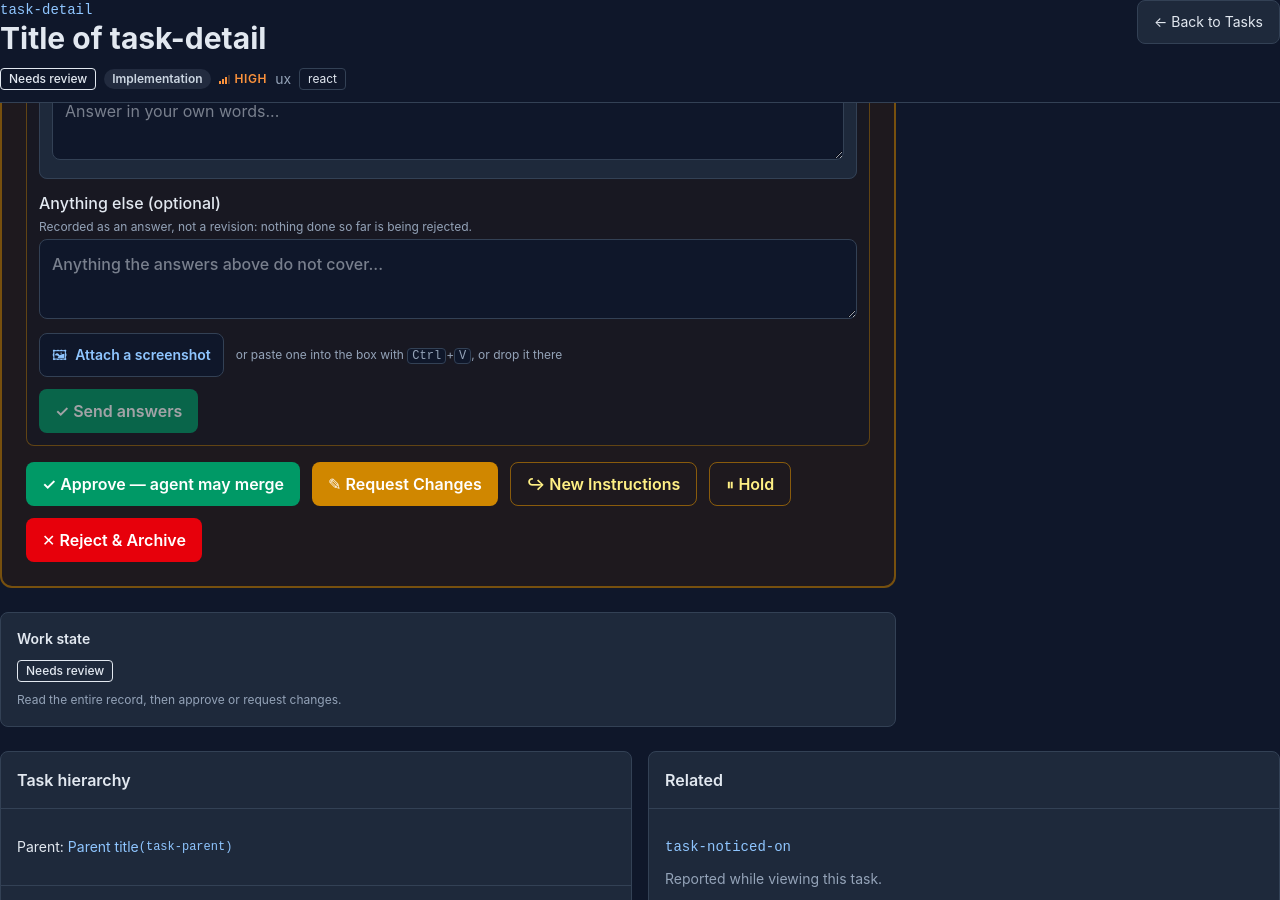
Test: TaskDetail review panel offers only verbs that are true › closes the composer once a hold lands, since the panel does not go away
(page scrolled)
Click the button "⏸ Hold" at (750, 484), box [709,462,791,506]
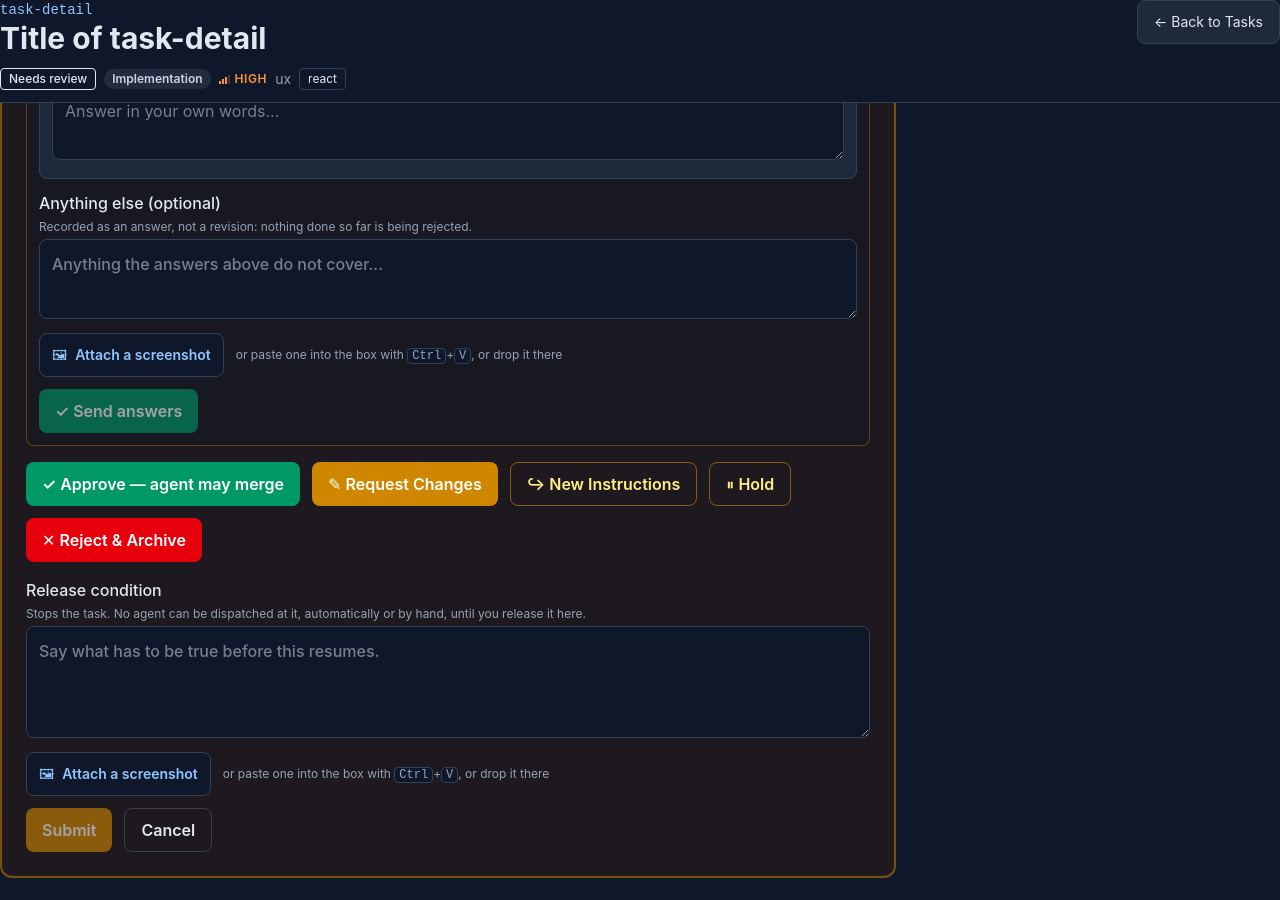
Type "Wait for the invoice." into the text box labelled "Release condition" at (448, 682), box [26,626,870,738]
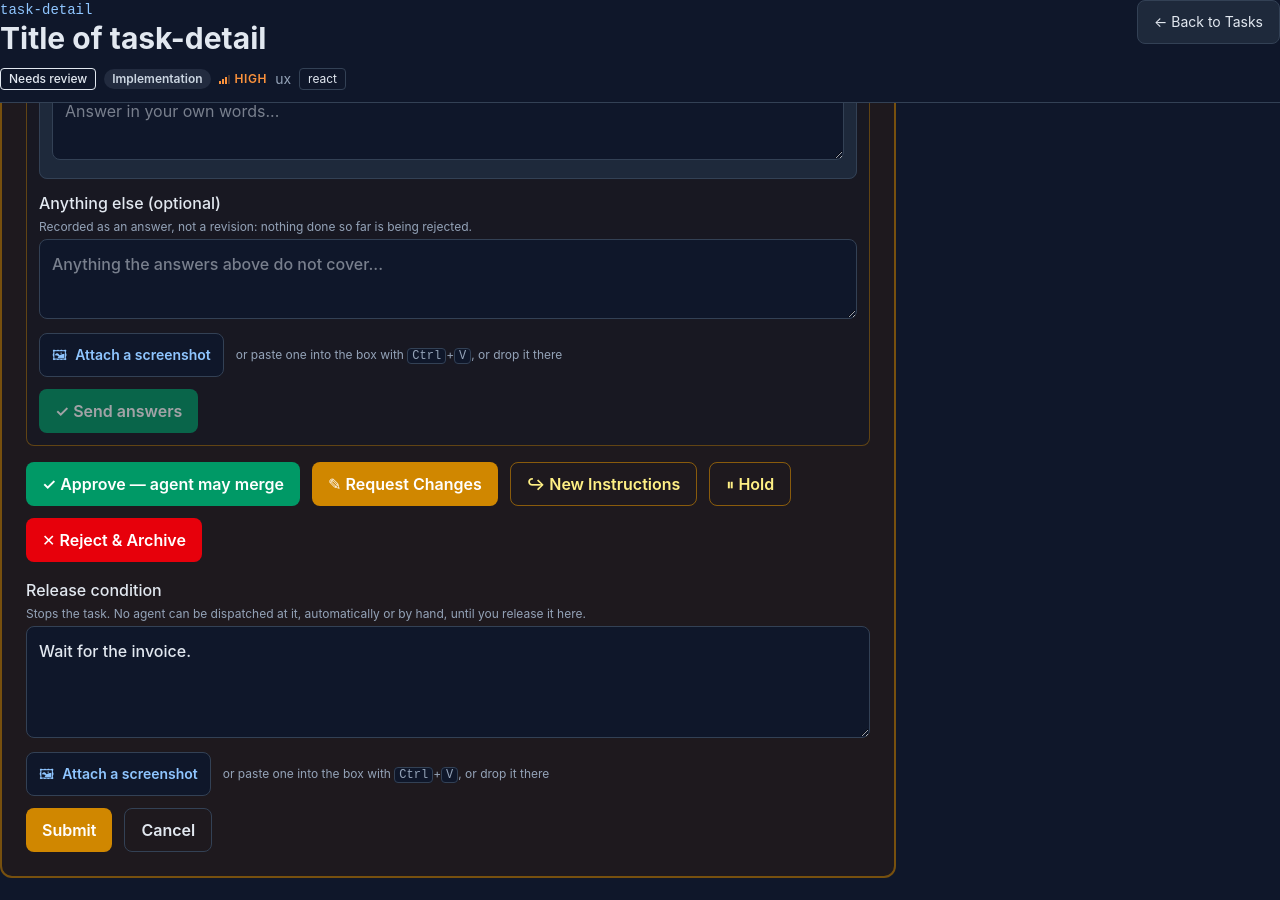
Click the button "Submit" at (69, 830), box [26,808,112,852]
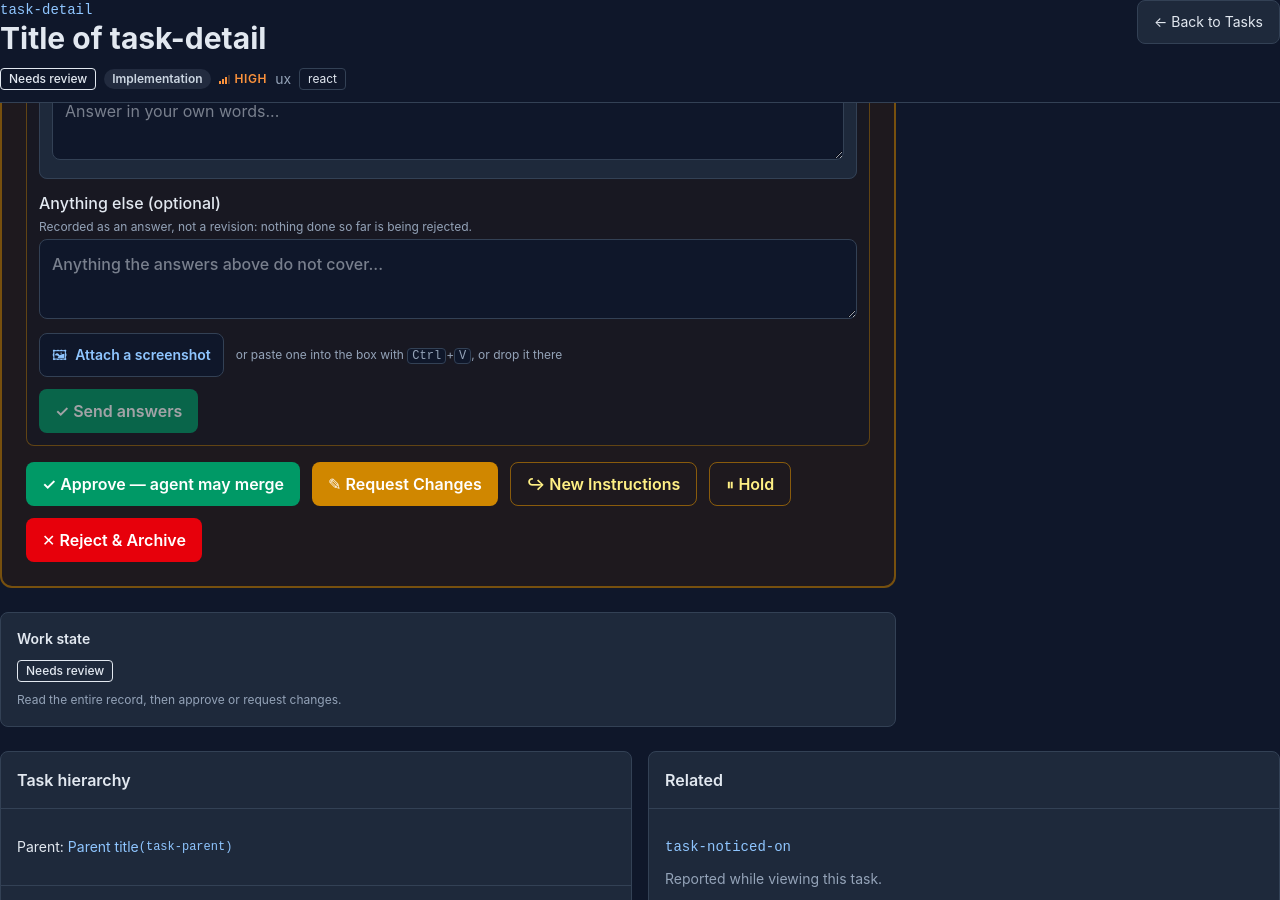
Expected: the form "Submit" is gone
Expected: the label labelled "Release condition" is gone
